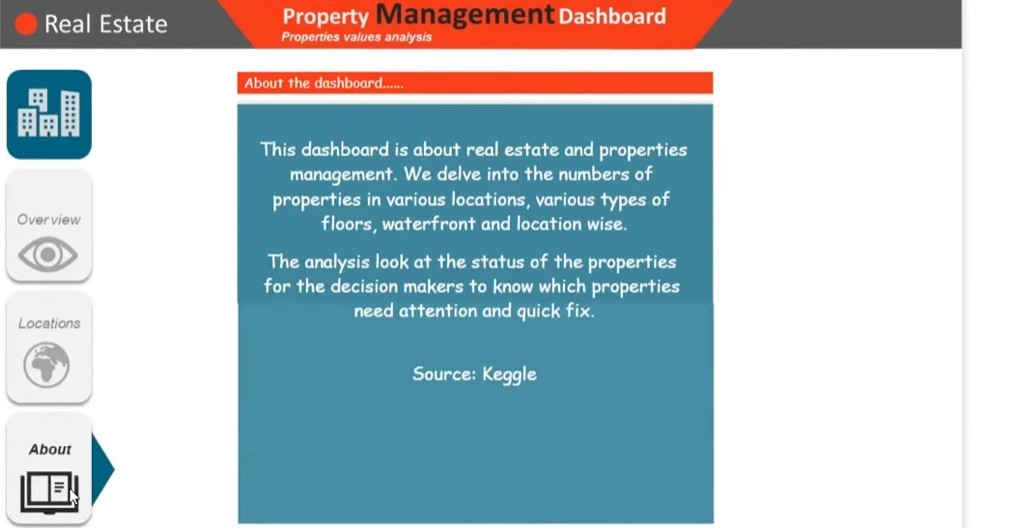

What the dashboard file says about the page in this screenshot:
{"tool":"powerbi","page":{"name":"About","canvas":[1280,720],"ordinal":2},"visuals":[{"type":"actionButton","box":[10,412.7,100,124.5],"z":0},{"type":"actionButton","box":[10,250.9,100,124.5],"z":1000},{"type":"actionButton","box":[10,574.5,100,124.5],"z":2000},{"type":"textbox","box":[312.7,96.4,478.2,34.5],"z":2001},{"type":"textbox","box":[388.2,285.5,487.3,272.7],"z":2002}]}

Visuals, with their boxes on the page's 1280x720 design canvas (x1, y1, x2, y2). These are canvas units, not pixel positions in the 1014x528 screenshot, which may show the page scaled, cropped or inside an application window:
actionButton: box(10, 413, 110, 537)
actionButton: box(10, 251, 110, 375)
actionButton: box(10, 574, 110, 699)
textbox: box(313, 96, 791, 131)
textbox: box(388, 286, 876, 558)
